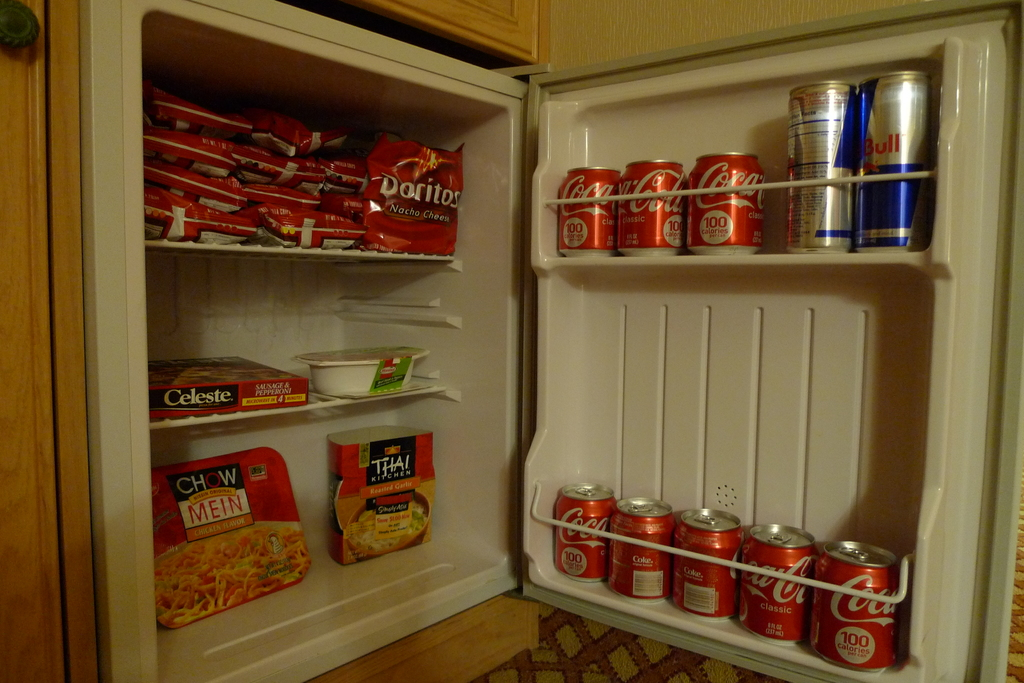refrigerator door: (547, 98, 966, 673)
